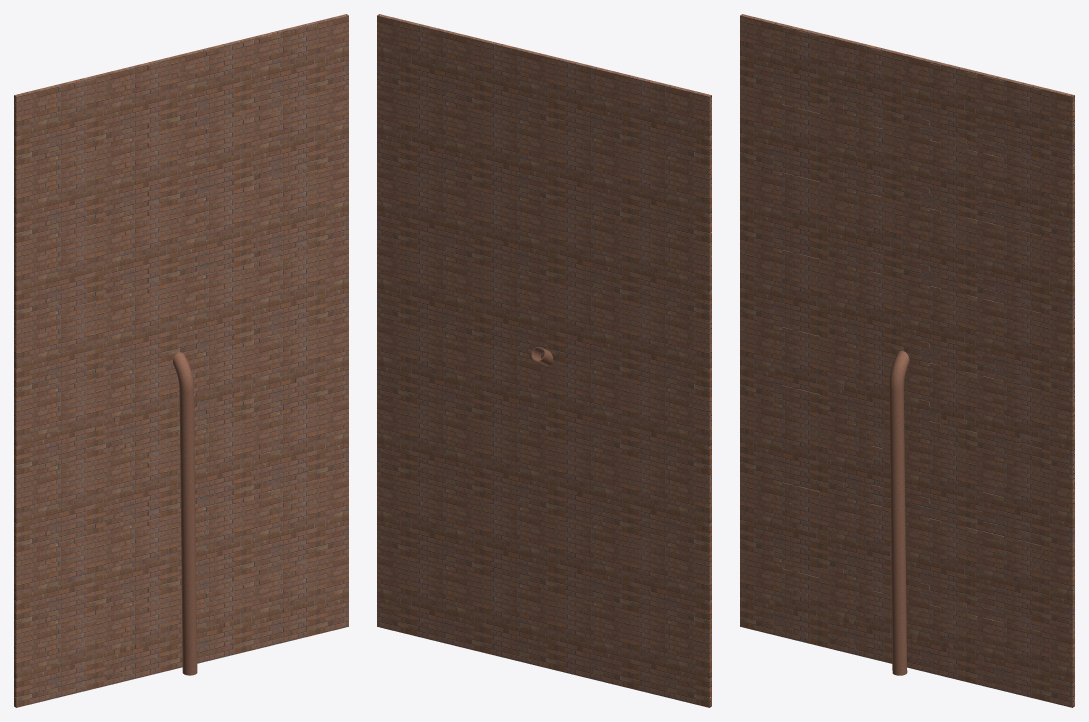
Rendered from Tutorial_Model_Structure_BS2Wall_4.fbx.
3 views of the same model, side by side, from view 1: azimuth 30°, elevation 25°; view 2: azimuth 150°, elevation 25°; view 3: azimuth 330°, elevation 25° (orthographic).
Parts seen in each view (by area): view 1: Wall_7, Wall_7_Pipe_1; view 2: Wall_7; view 3: Wall_7, Wall_7_Pipe_1.
Part boxes in pixels (bbox=[...]): Wall_7: bbox=[14, 14, 348, 707]; Wall_7_Pipe_1: bbox=[173, 352, 197, 675]; Wall_7: bbox=[377, 14, 711, 707]; Wall_7: bbox=[740, 14, 1074, 707]; Wall_7_Pipe_1: bbox=[889, 350, 909, 675].
Bounding box in the file's own units: 354 × 622 × 43.59.
2 materials, 2 textured.
